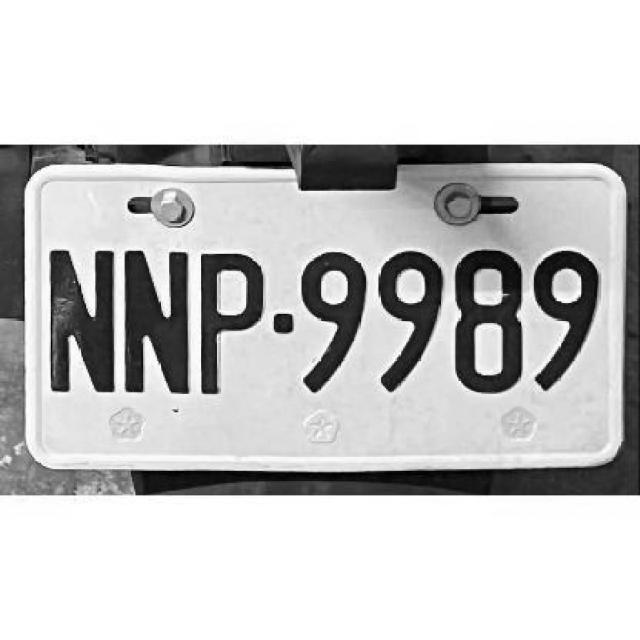-: (274, 315, 294, 337)
8: (449, 238, 528, 396)
9: (292, 245, 371, 397), (523, 242, 602, 392), (370, 243, 448, 392)
N: (119, 240, 192, 397), (47, 242, 121, 396)
P: (196, 245, 264, 397)
